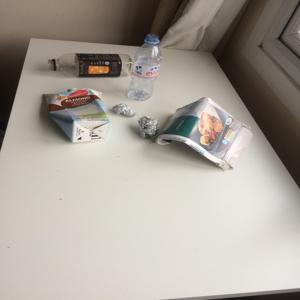cardboard: (156, 96, 251, 170), (42, 81, 113, 150)
glass: (40, 48, 138, 86)
metal: (134, 111, 164, 142), (112, 98, 139, 124)
plastic bottle: (125, 28, 166, 107)
